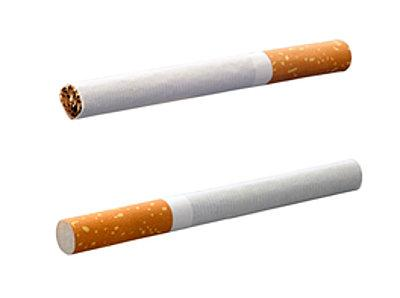smoke: (54, 157, 364, 256), (60, 38, 353, 120)
